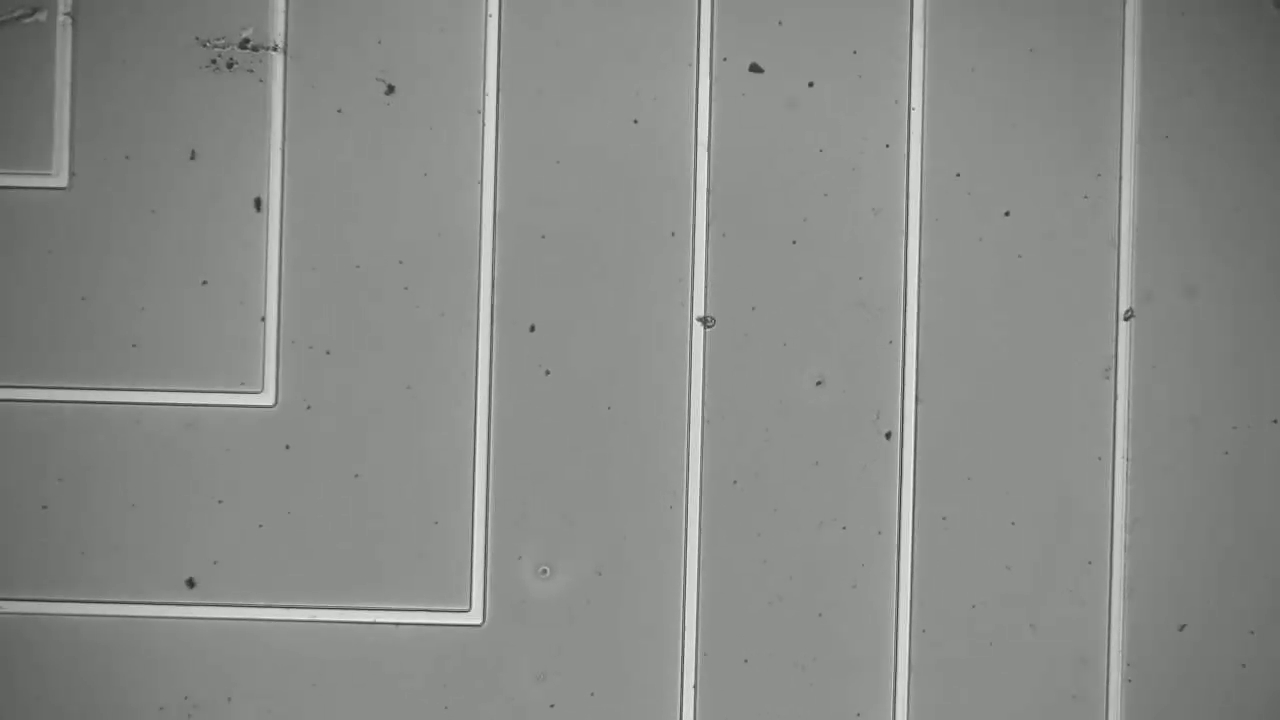stains_enbedded: (679, 300, 721, 337), (1112, 300, 1140, 329)
